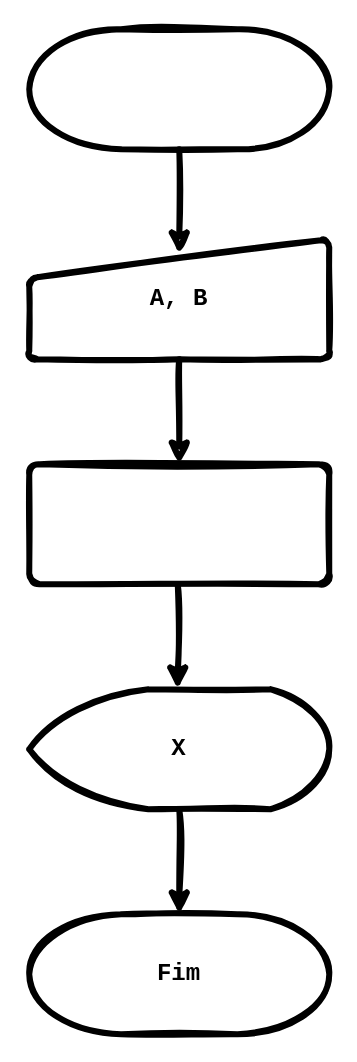
Some shapes in this 357 by 1062 pixel diagram are drawn without their labels. The shapes that lost their labels are listed below. From the top down, each one's centre as x and y in pixels, then its label:
At (x=179, y=89): "Início".
At (x=179, y=523): "X <- A + B".
